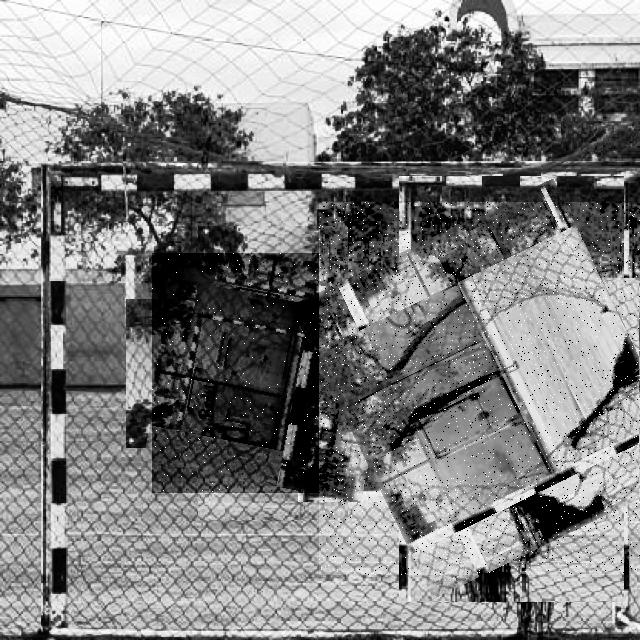anomaly-fence: (319, 202, 640, 575), (152, 253, 394, 493)
